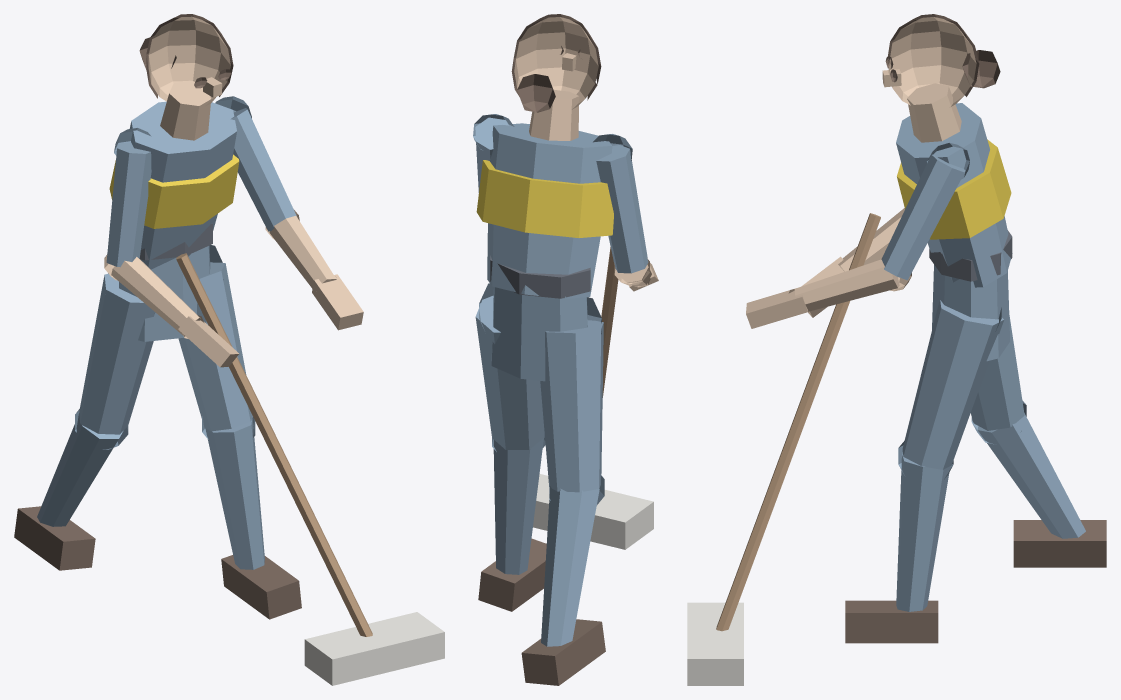
File: low-poly-character-figures-cleaner-with-mop-579c8a9e.glb
3 views of the same model, side by side, from view 1: azimuth 30°, elevation 25°; view 2: azimuth 150°, elevation 25°; view 3: azimuth 270°, elevation 25° (orthographic). The views are drawn at different scales.
Parts seen in each view (by area): view 1: cleaner-with-mop; view 2: cleaner-with-mop; view 3: cleaner-with-mop.
Boxes of the visible parts, left/top/right/bottom form: cleaner-with-mop: left=14, top=14, right=444, bottom=685; cleaner-with-mop: left=473, top=14, right=658, bottom=685; cleaner-with-mop: left=687, top=14, right=1106, bottom=685.
Bounding box in the file's own units: 0.6662 × 1.66 × 1.05.
